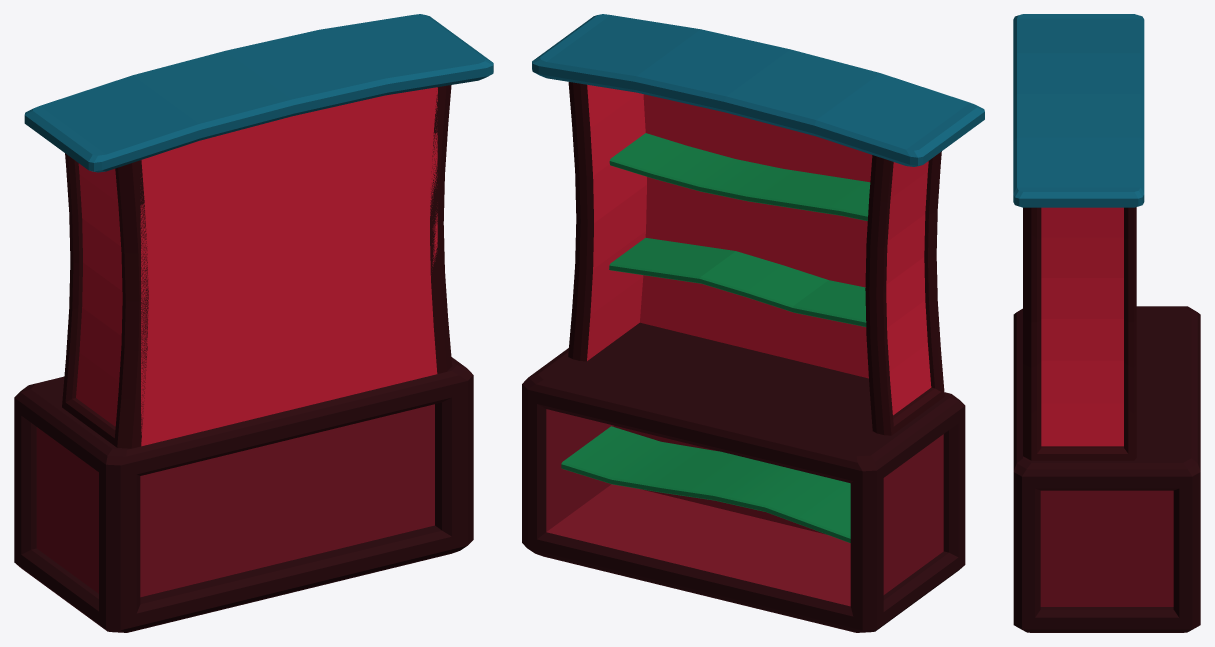
Rendered from MESH_Shelf.fbx.
3 views of the same model, side by side, from view 1: azimuth 30°, elevation 25°; view 2: azimuth 150°, elevation 25°; view 3: azimuth 270°, elevation 25° (orthographic). The views are drawn at different scales.
Visible parts, largest first — view 1: MESH_Shelf; view 2: MESH_Shelf; view 3: MESH_Shelf.
Boxes of the visible parts, x1,y1,x2,y2 form: MESH_Shelf: (14, 14, 493, 632); MESH_Shelf: (522, 14, 984, 632); MESH_Shelf: (1013, 14, 1200, 632).
Size of the model in its own units: 1.78 by 2.08 by 0.7686.
